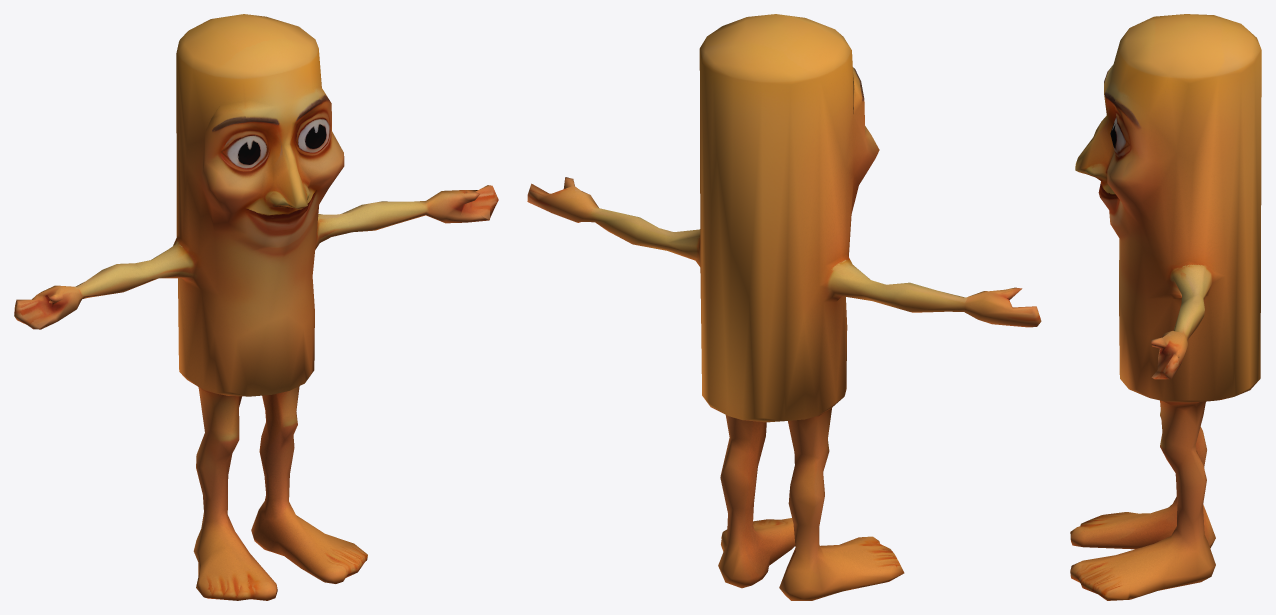
File: StoreTungTung-tpose-game-1200-polished.glb
The picture shows the model from 3 angles, left to right: view 1: azimuth 30°, elevation 25°; view 2: azimuth 150°, elevation 25°; view 3: azimuth 270°, elevation 25°; orthographic projection. The views are drawn at different scales.
Parts seen in each view (by area): view 1: material; view 2: material; view 3: material.
Boxes of the visible parts, <box> form: material: <box>14,14,498,600</box>; material: <box>527,14,1041,600</box>; material: <box>1070,14,1261,600</box>.
Bounding box in the file's own units: 1.08 × 1.13 × 0.363.
Materials: 1 (1 with a texture image).
